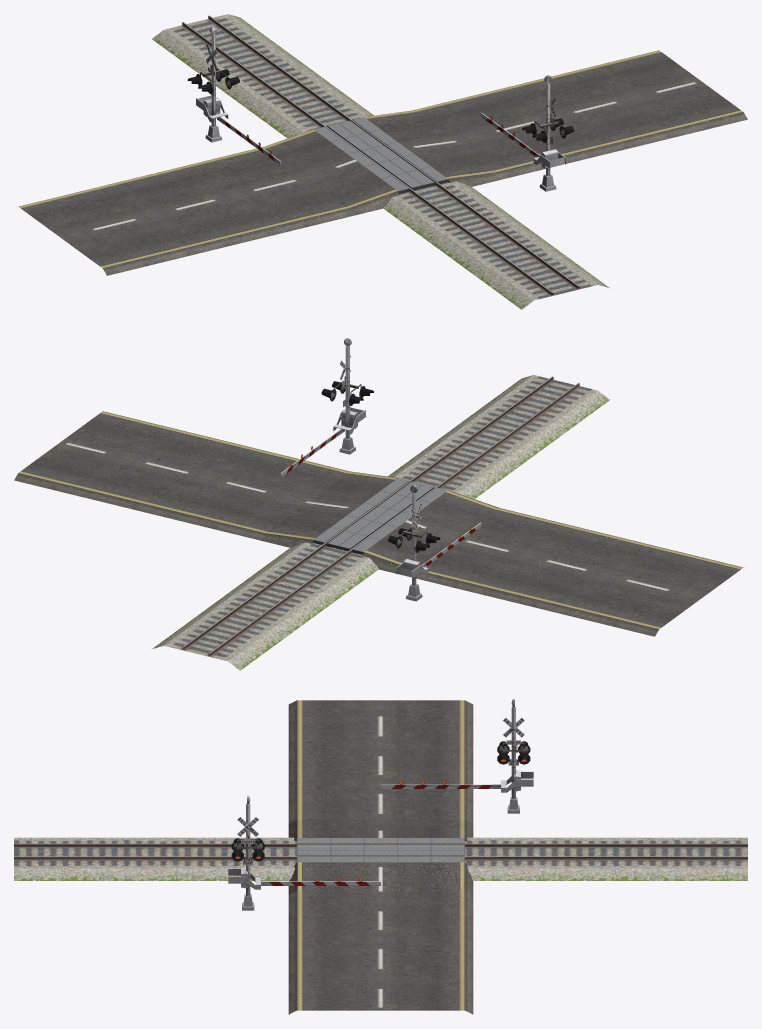
Rendered from Tr_Crossing2.fbx.
3 renders of one model, top to bottom at view 1: azimuth 30°, elevation 25°; view 2: azimuth 150°, elevation 25°; view 3: azimuth 270°, elevation 25°, orthographic.
Visible parts, largest first — view 1: U3DMesh; view 2: U3DMesh; view 3: U3DMesh.
Boxes of the visible parts, x1,y1,x2,y2 form: U3DMesh: [18, 14, 747, 309]; U3DMesh: [14, 338, 743, 670]; U3DMesh: [14, 699, 747, 1014].
Size of the model in its own units: 32 by 5.37 by 32.
